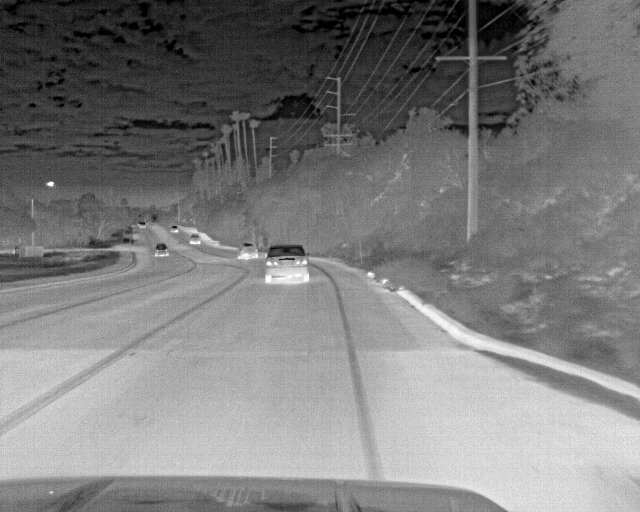vehicle: (265, 241, 311, 283), (239, 240, 259, 262), (156, 243, 169, 256), (189, 235, 201, 244)
